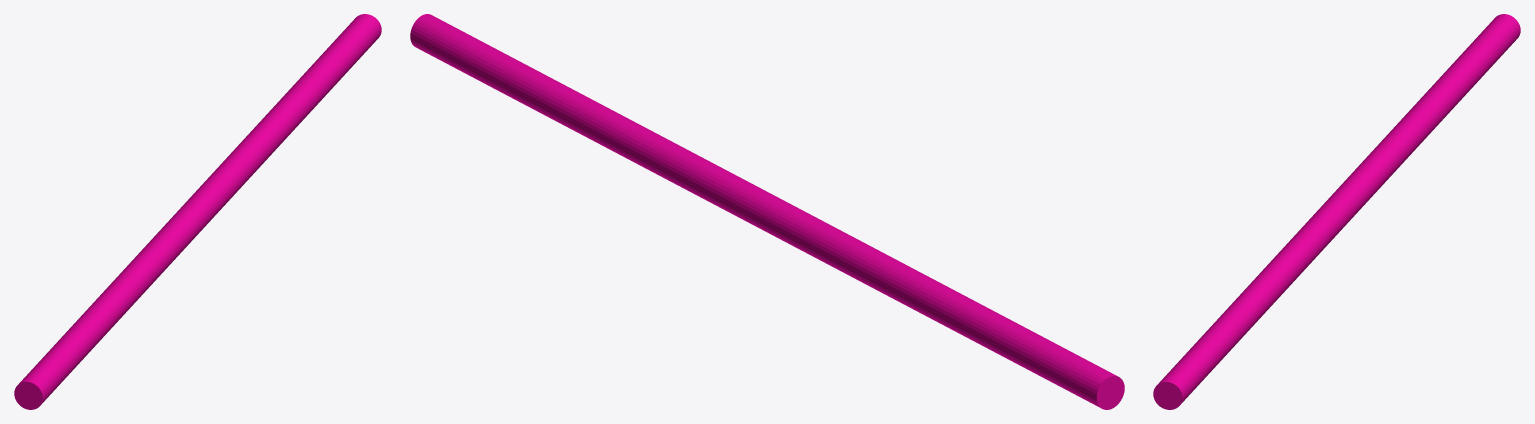
3 views of the same model, side by side, from view 1: azimuth 90°, elevation 25°; view 2: azimuth 150°, elevation 25°; view 3: azimuth 270°, elevation 25° (orthographic). The views are drawn at different scales.
Parts seen in each view (by area): view 1: Циліндр.001; view 2: Циліндр.001; view 3: Циліндр.001.
Boxes of the visible parts, left/top/right/bottom form: Циліндр.001: left=14, top=14, right=381, bottom=409; Циліндр.001: left=410, top=14, right=1124, bottom=409; Циліндр.001: left=1153, top=14, right=1520, bottom=409.
Bounding box in the file's own units: 2.76 × 0.0964 × 1.15.
